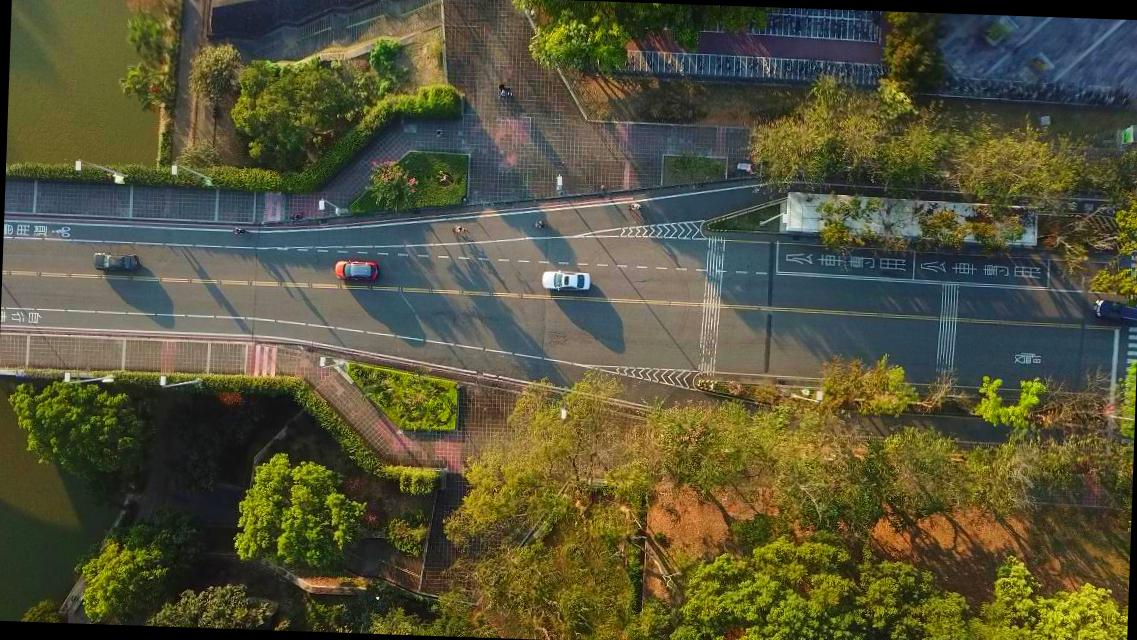vehicle: (541, 269, 590, 292), (1092, 299, 1136, 322), (333, 260, 378, 280), (93, 251, 138, 271)
